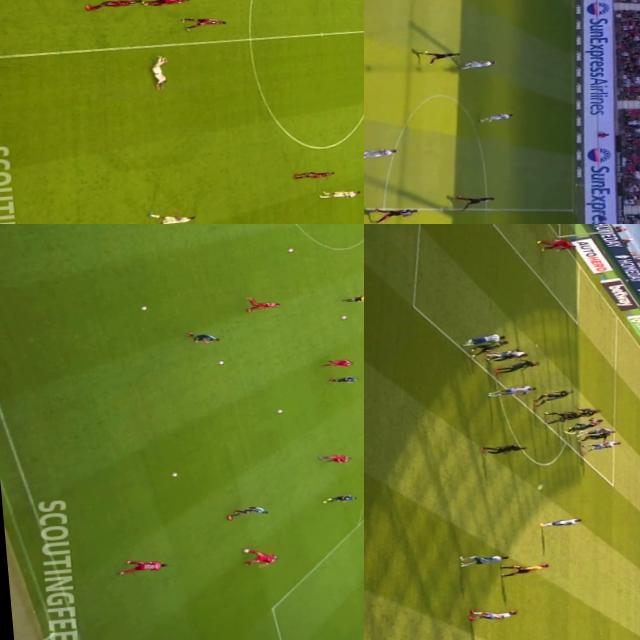ball: (531, 484, 546, 491), (141, 304, 148, 312), (171, 472, 179, 478), (287, 247, 294, 252), (217, 360, 224, 365), (341, 314, 346, 320), (276, 409, 282, 413), (244, 549, 251, 552)
player: (117, 557, 168, 575), (141, 210, 198, 224), (148, 56, 171, 90), (466, 340, 509, 358), (450, 193, 498, 209), (366, 207, 417, 222), (417, 48, 464, 64), (485, 383, 535, 398), (224, 506, 269, 522), (492, 360, 537, 376), (457, 552, 508, 566), (83, 0, 142, 12), (183, 14, 230, 29), (460, 332, 504, 348), (532, 389, 575, 405), (534, 237, 576, 253), (467, 608, 517, 621), (482, 442, 528, 456), (544, 408, 582, 424), (245, 296, 282, 312), (364, 147, 399, 162), (246, 550, 281, 565), (582, 439, 622, 452), (294, 169, 337, 181), (459, 59, 498, 72), (188, 329, 220, 344), (316, 188, 362, 198), (320, 494, 358, 506), (567, 418, 604, 430), (491, 350, 522, 364), (574, 426, 616, 436), (487, 350, 528, 360), (138, 0, 189, 8), (541, 517, 581, 527), (478, 112, 514, 123), (564, 408, 602, 418), (318, 452, 350, 463), (328, 375, 358, 385), (578, 433, 609, 442), (324, 358, 352, 367)
